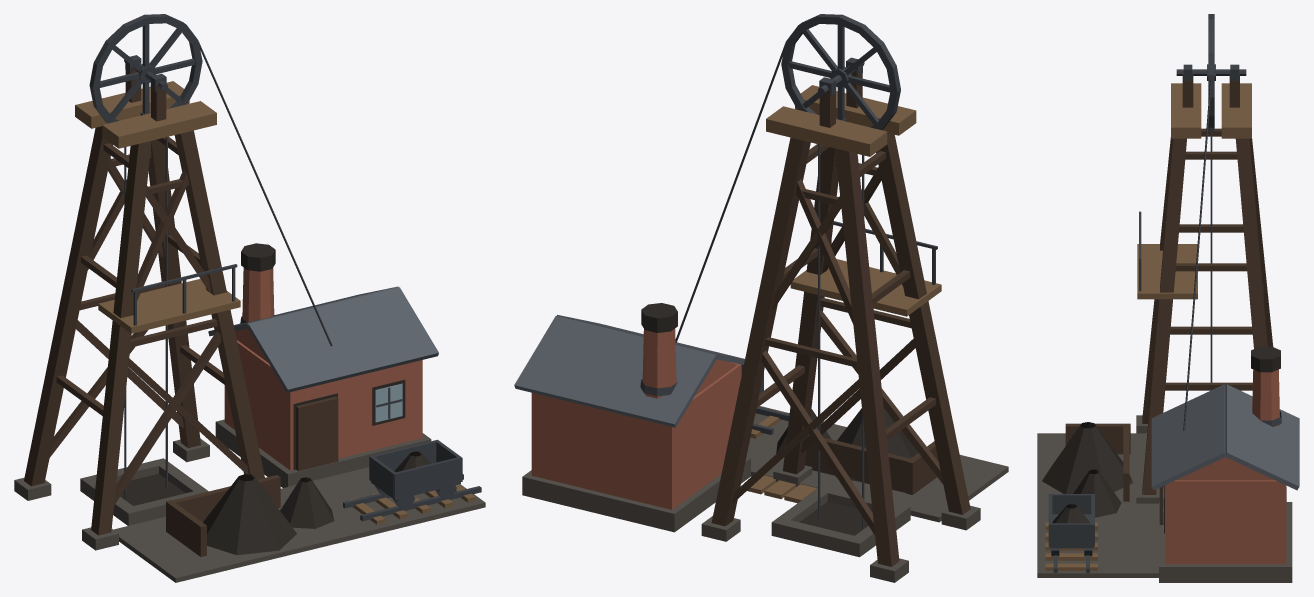
The model's file is era2-colliery-BGj6im5U.glb.
3 views of the same model, side by side, from view 1: azimuth 30°, elevation 25°; view 2: azimuth 150°, elevation 25°; view 3: azimuth 270°, elevation 25° (orthographic). The views are drawn at different scales.
Parts seen in each view (by area): view 1: CollieryHeadframe_Frame, CollieryHeadframe_Foundation, CollieryHeadframe_ShedRoof, CollieryHeadframe_Shed, CollieryHeadframe_Platform, CollieryHeadframe_Ironwork, CollieryHeadframe_Coal, CollieryHeadframe_Wheel, CollieryHeadframe_Openings, CollieryHeadframe_ChimneyCap, CollieryHeadframe_Glazing; view 2: CollieryHeadframe_Frame, CollieryHeadframe_Shed, CollieryHeadframe_Foundation, CollieryHeadframe_ShedRoof, CollieryHeadframe_Platform, CollieryHeadframe_Wheel, CollieryHeadframe_Ironwork, CollieryHeadframe_Coal, CollieryHeadframe_Openings, CollieryHeadframe_ChimneyCap; view 3: CollieryHeadframe_Frame, CollieryHeadframe_Shed, CollieryHeadframe_Foundation, CollieryHeadframe_ShedRoof, CollieryHeadframe_Platform, CollieryHeadframe_Ironwork, CollieryHeadframe_Coal, CollieryHeadframe_Wheel, CollieryHeadframe_ChimneyCap.
Boxes of the visible parts, left/top/right/bottom form: CollieryHeadframe_Frame: left=24, top=66, right=338, bottom=556; CollieryHeadframe_Foundation: left=14, top=419, right=485, bottom=582; CollieryHeadframe_ShedRoof: left=208, top=286, right=438, bottom=392; CollieryHeadframe_Shed: left=224, top=267, right=422, bottom=470; CollieryHeadframe_Platform: left=75, top=81, right=475, bottom=524; CollieryHeadframe_Ironwork: left=124, top=42, right=481, bottom=521; CollieryHeadframe_Coal: left=203, top=451, right=430, bottom=555; CollieryHeadframe_Wheel: left=89, top=14, right=202, bottom=123; CollieryHeadframe_Openings: left=120, top=379, right=405, bottom=505; CollieryHeadframe_ChimneyCap: left=241, top=243, right=275, bottom=271; CollieryHeadframe_Glazing: left=375, top=383, right=402, bottom=422; CollieryHeadframe_Frame: left=711, top=70, right=970, bottom=566; CollieryHeadframe_Shed: left=531, top=328, right=741, bottom=509; CollieryHeadframe_Foundation: left=522, top=406, right=1008, bottom=582; CollieryHeadframe_ShedRoof: left=514, top=314, right=744, bottom=427; CollieryHeadframe_Platform: left=747, top=85, right=941, bottom=503; CollieryHeadframe_Wheel: left=781, top=14, right=900, bottom=130; CollieryHeadframe_Ironwork: left=640, top=44, right=937, bottom=528; CollieryHeadframe_Coal: left=776, top=408, right=918, bottom=481; CollieryHeadframe_Openings: left=799, top=501, right=868, bottom=535; CollieryHeadframe_ChimneyCap: left=641, top=303, right=677, bottom=332; CollieryHeadframe_Frame: left=1065, top=74, right=1273, bottom=524; CollieryHeadframe_Shed: left=1165, top=369, right=1286, bottom=564; CollieryHeadframe_Foundation: left=1037, top=415, right=1292, bottom=582; CollieryHeadframe_ShedRoof: left=1151, top=384, right=1299, bottom=490; CollieryHeadframe_Platform: left=1045, top=83, right=1251, bottom=570; CollieryHeadframe_Ironwork: left=1048, top=64, right=1281, bottom=572; CollieryHeadframe_Coal: left=1042, top=422, right=1132, bottom=523; CollieryHeadframe_Wheel: left=1207, top=14, right=1215, bottom=131; CollieryHeadframe_ChimneyCap: left=1251, top=346, right=1280, bottom=372.
Size of the model in its own units: 9.31 by 12.2 by 6.48.
